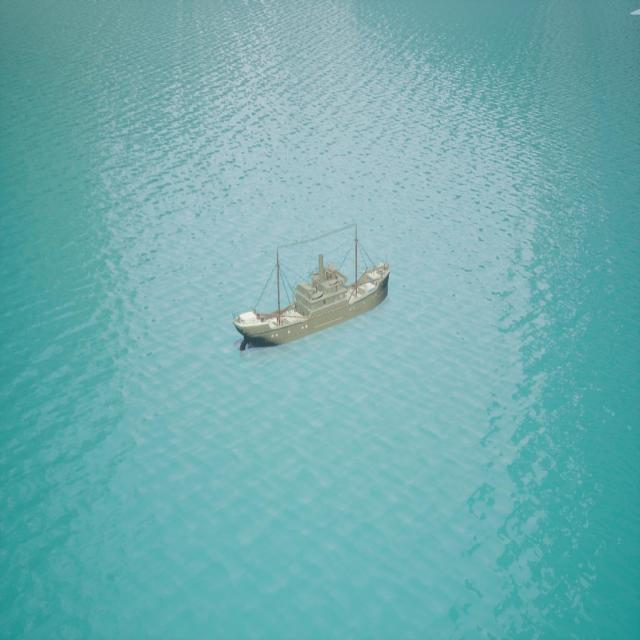fishing ship: (235, 235, 391, 351)
